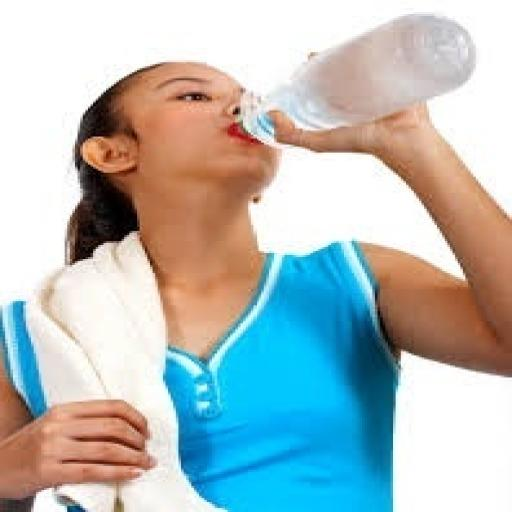drinking: (233, 10, 476, 145)
